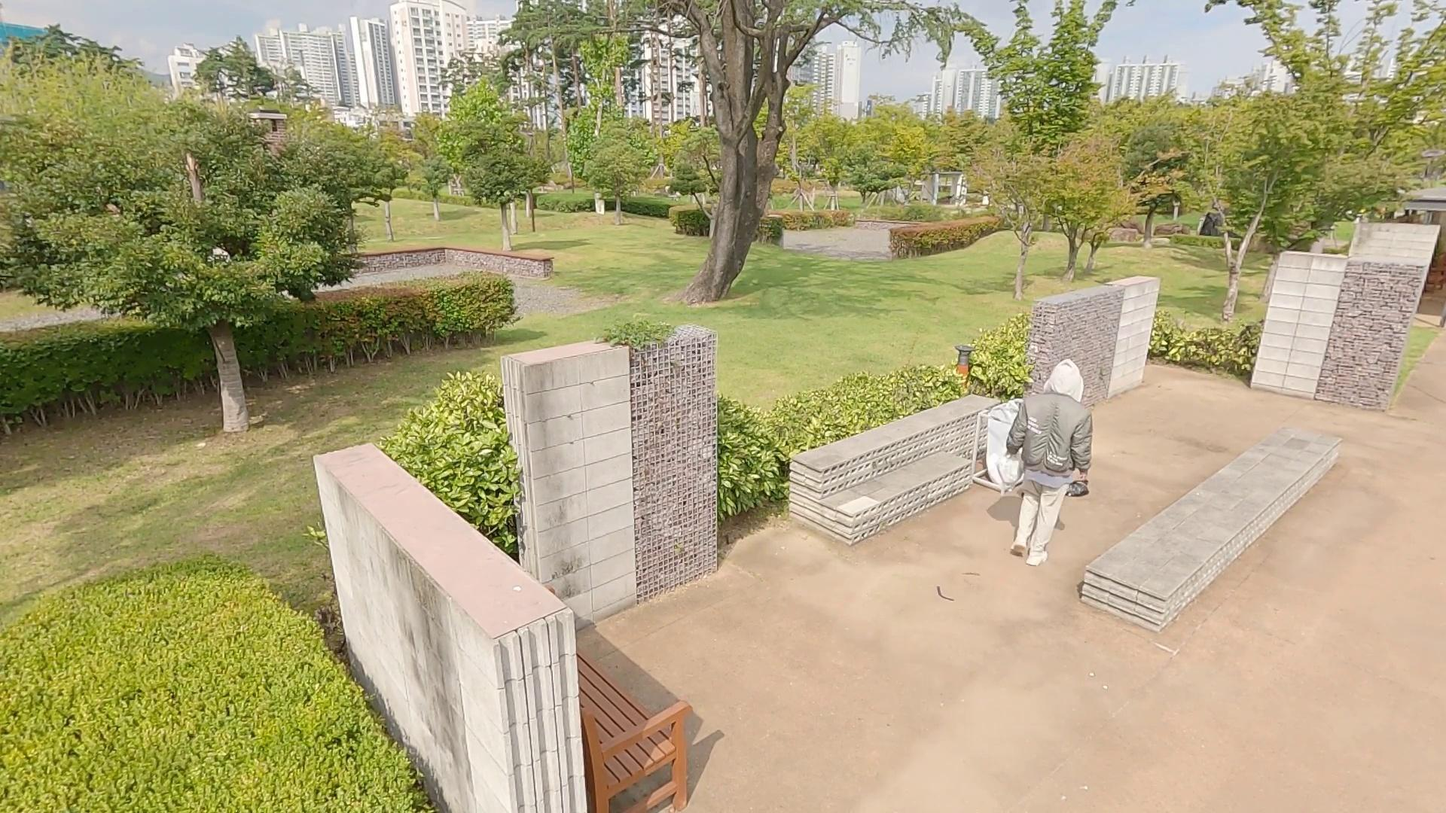person: (1004, 356, 1097, 567)
trash: (1061, 473, 1090, 505)
